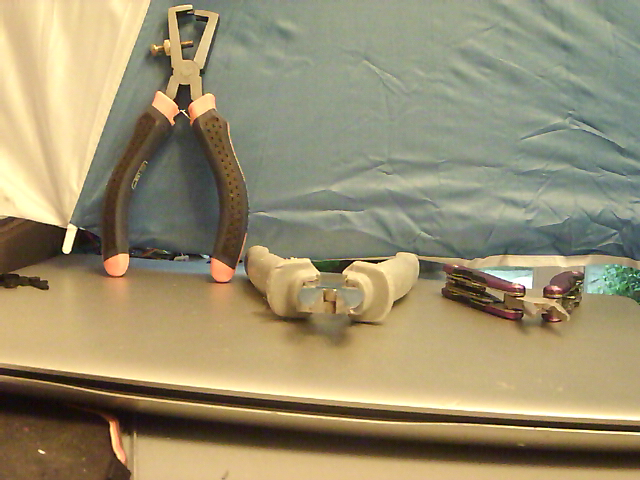pliers: (245, 242, 423, 328), (444, 263, 586, 330)
